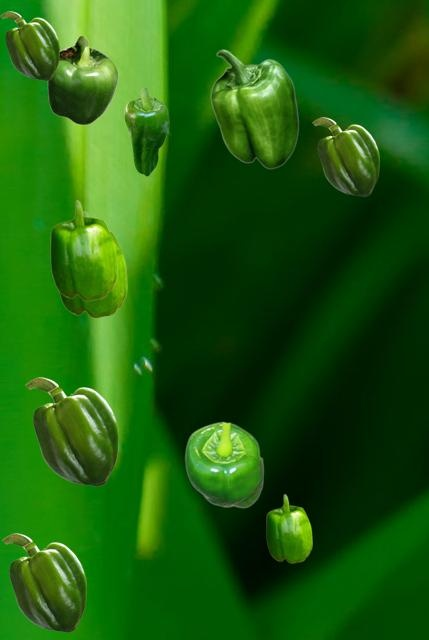bell_pepper: (210, 49, 298, 168), (25, 377, 117, 485), (2, 533, 85, 631), (58, 211, 126, 317), (184, 421, 263, 507), (50, 200, 116, 300), (47, 35, 117, 124), (312, 117, 378, 195), (0, 11, 58, 79), (124, 88, 168, 175), (266, 494, 311, 562)
